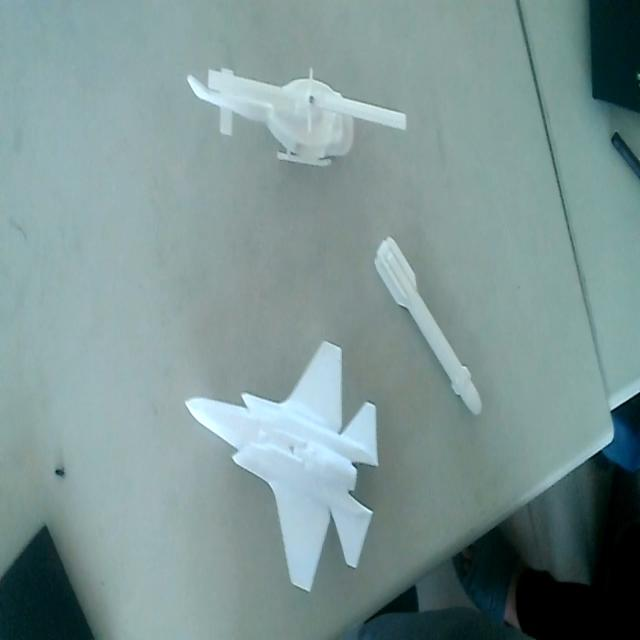Helicopter: (185, 54, 407, 177)
Jet: (181, 336, 379, 598)
Rocket: (372, 230, 484, 423)
